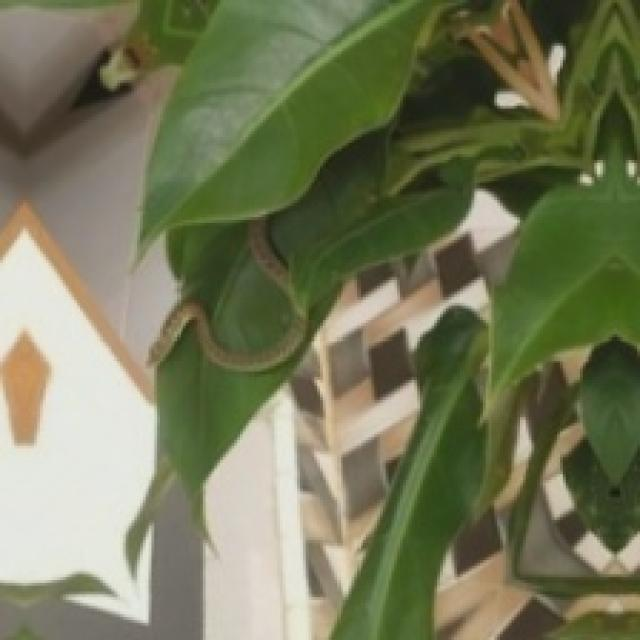paradise tree snake: (140, 0, 449, 249), (149, 217, 306, 369)
